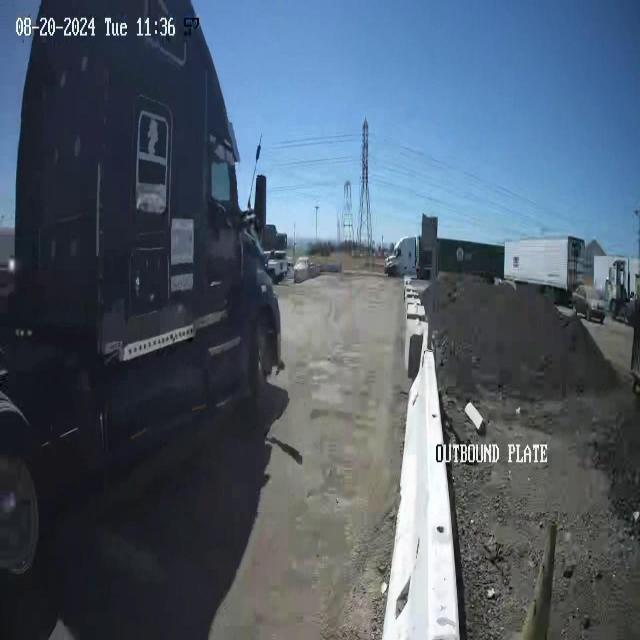TRUCK_IN: (1, 1, 284, 575)
